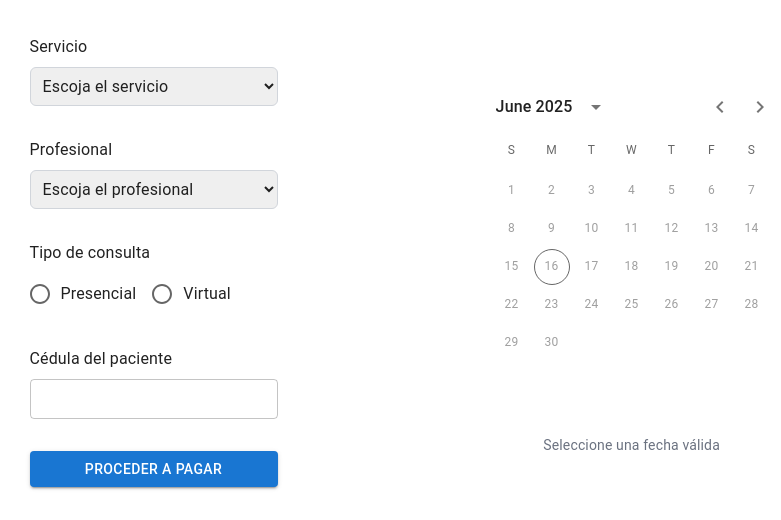
Scenario: AppointmentCreation › shows error if fields are missing
Click the button "Proceder a pagar" at (154, 469), box left=30, top=451, right=278, bottom=487
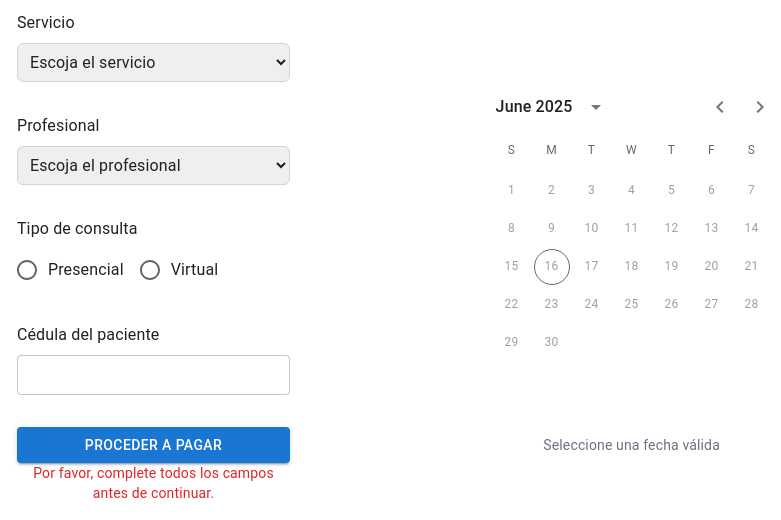
Now the text "Por favor, complete todos los campos antes de continuar." is shown, box left=17, top=463, right=290, bottom=503
